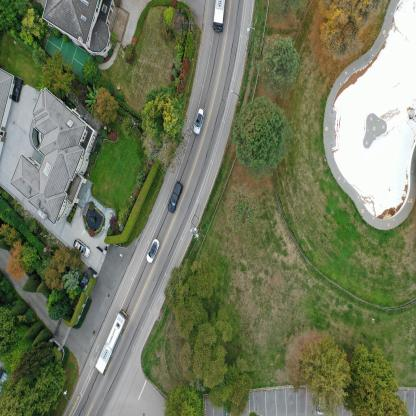Coniferous Tree: (280, 328, 352, 414), (347, 345, 405, 416), (197, 306, 236, 390), (164, 270, 217, 330), (210, 357, 255, 416), (322, 0, 366, 53), (224, 183, 256, 227), (141, 136, 184, 162), (160, 391, 202, 416)
Deciduous Tree: (232, 93, 289, 170), (255, 36, 306, 88), (139, 96, 182, 133)
